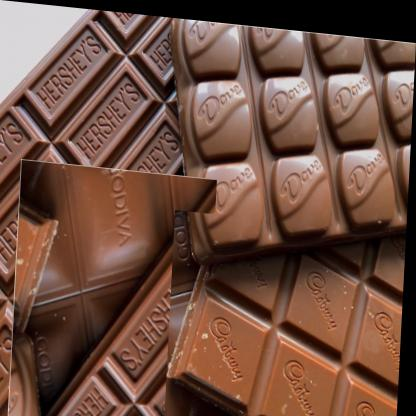chocolate: (0, 0, 194, 415), (162, 14, 416, 275), (12, 158, 220, 415), (168, 206, 408, 415)
